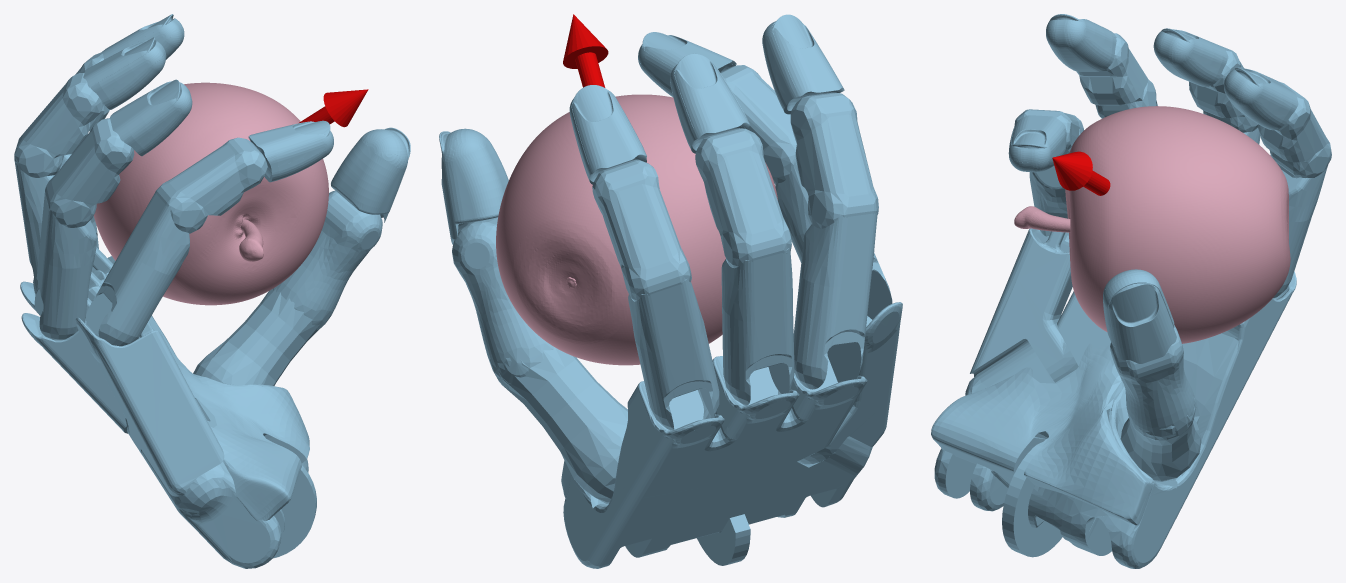
3 renders of one model, left to right at view 1: azimuth 30°, elevation 25°; view 2: azimuth 150°, elevation 25°; view 3: azimuth 270°, elevation 25°, orthographic. The views are drawn at different scales.
Visible parts, largest first — view 1: world, apple.stl; view 2: world, apple.stl; view 3: world, apple.stl.
Part boxes in pixels (x1=…): world: x1=14, y1=14, x2=410, y2=568; apple.stl: x1=93, y1=82, x2=328, y2=305; world: x1=439, y1=14, x2=902, y2=568; apple.stl: x1=496, y1=94, x2=777, y2=365; world: x1=931, y1=14, x2=1331, y2=568; apple.stl: x1=1014, y1=106, x2=1290, y2=343.
Bounding box in the file's own units: 0.1409 × 0.1774 × 0.1281.
